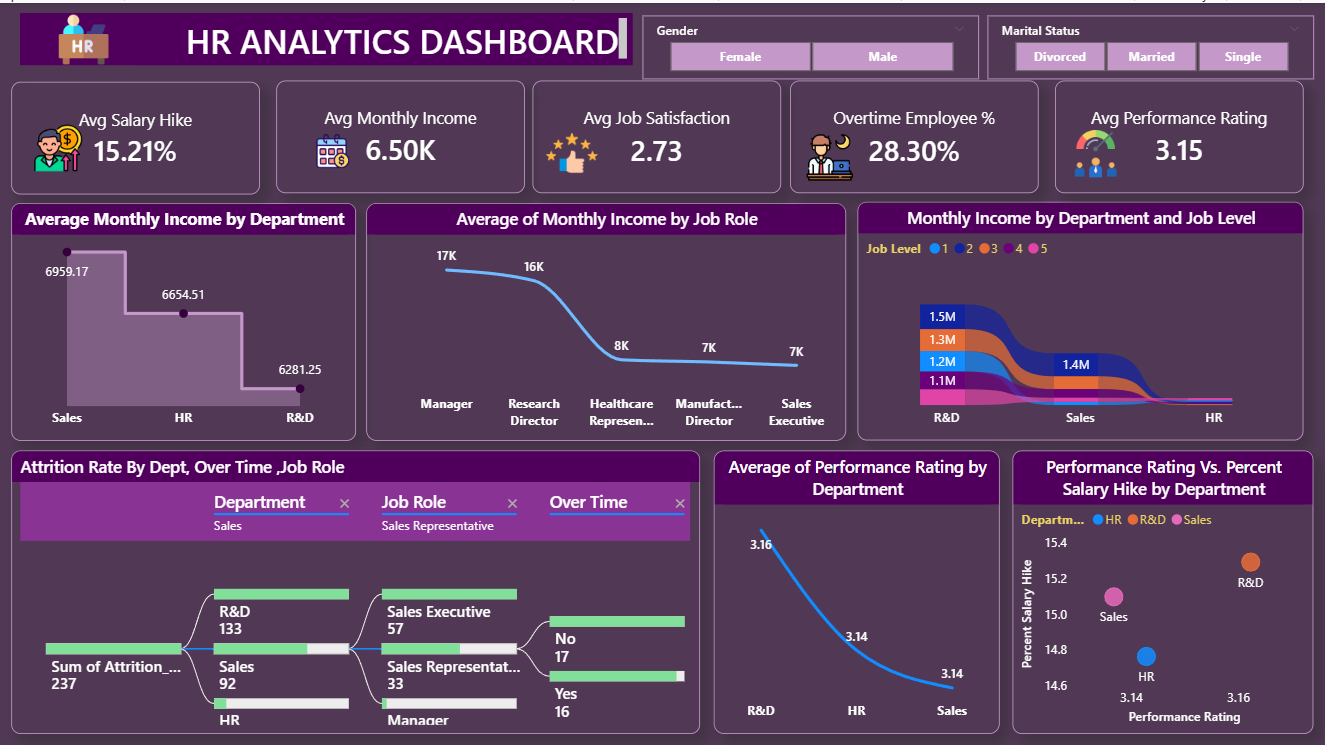

What the dashboard file says about the page in this screenshot:
{"tool":"powerbi","page":{"name":"Employee Performance & Compensation","canvas":[1280,720],"ordinal":1},"visuals":[{"type":"funnel","title":"Average  Monthly Income by Department","fields":{"Category":["HR data.Department"],"Y":["Avg(HR data.Monthly Income)"]},"box":[10.9,193,333,229.2],"z":0},{"type":"lineChart","fields":{"Category":["HR data.Job Role"],"Y":["Avg(HR data.Monthly Income)"]},"box":[353.5,193,464.5,229.2],"z":1000},{"type":"cardVisual","fields":{"Data":["HR data.Avg Salary Hike"]},"box":[10.9,80.8,240.1,100.1],"z":2000},{"type":"ribbonChart","title":"Avg Monthly Income by Department and Job Level","fields":{"Y":["Avg(HR data.Monthly Income)"],"Category":["HR data.Job Level"],"Series":["HR data.Department"]},"box":[827.6,191.8,430.7,230.4],"z":3000},{"type":"image","box":[31.4,117,49.5,45.8],"z":4000},{"type":"cardVisual","fields":{"Data":["Avg(HR data.Monthly Income)"]},"box":[260.6,80.8,240.1,100.1],"z":5000},{"type":"cardVisual","fields":{"Data":["HR data.Avg Job Satisfaction"]},"box":[510.3,82,240.1,100.1],"z":6000},{"type":"cardVisual","fields":{"Data":["HR data.Overtime Employee %"]},"box":[762.5,82,240.1,100.1],"z":7000},{"type":"image","box":[774.5,126.7,53.1,44.6],"z":8000},{"type":"image","box":[524.8,117,54.3,54.3],"z":9000},{"type":"image","box":[298,114.6,45.8,56.7],"z":10000},{"type":"cardVisual","fields":{"Data":["Avg(HR data.Performance Rating)"]},"box":[1018.2,83.2,240.1,100.1],"z":11000},{"type":"image","box":[1032.7,117,49.5,56.7],"z":12000},{"type":"clusteredBarChart","title":"Performance Rating Vs. Percent Salary Hike by Department","fields":{"Y":["Avg(HR data.Performance Rating)","HR data.Avg Salary Hike"],"Category":["HR data.Department"]},"box":[970,431.9,298,273.9],"z":13000},{"type":"decompositionTreeVisual","title":"WorkForce Distribution by Department, Role and Overtime","fields":{"ExplainBy":["HR data.Department","HR data.Job Role","HR data.Over Time"],"Analyze":["HR data.Active_Employees"]},"box":[7.2,431.9,571.9,273.9],"z":14000},{"type":"areaChart","title":"Avg Salary Hike by age group","fields":{"Y":["HR data.Avg Salary Hike"],"Category":["HR data.CF_age band"]},"box":[586.3,430.7,375.2,275.1],"z":15000},{"type":"textbox","box":[9.7,0,594.8,67.6],"z":16000},{"type":"image","box":[31.4,10.9,67.6,45.8],"z":17000},{"type":"slicer","fields":{"Values":["HR data.Marital Status"]},"box":[957.9,7.2,300.4,67.6],"z":18000},{"type":"slicer","fields":{"Values":["HR data.Gender"]},"box":[639.4,7.2,300.4,67.6],"z":19000}]}

Visuals, with their boxes in screenshot pixels (x1, y1, x2, y2), scaled from the page's 1280x720 canvas onto the 1325x745 screenshot:
"Average  Monthly Income by Department" funnel: <box>11,200,356,437</box>
lineChart - HR data.Job Role x Avg(HR data.Monthly Income): <box>366,200,847,437</box>
cardVisual - HR data.Avg Salary Hike: <box>11,84,260,187</box>
"Avg Monthly Income by Department and Job Level" ribbonChart: <box>857,198,1303,437</box>
image: <box>33,121,84,168</box>
cardVisual - Avg(HR data.Monthly Income): <box>270,84,518,187</box>
cardVisual - HR data.Avg Job Satisfaction: <box>528,85,777,188</box>
cardVisual - HR data.Overtime Employee %: <box>789,85,1038,188</box>
image: <box>802,131,857,177</box>
image: <box>543,121,599,177</box>
image: <box>308,119,356,177</box>
cardVisual - Avg(HR data.Performance Rating): <box>1054,86,1303,190</box>
image: <box>1069,121,1120,180</box>
"Performance Rating Vs. Percent Salary Hike by Department" clusteredBarChart: <box>1004,447,1313,730</box>
"WorkForce Distribution by Department, Role and Overtime" decompositionTreeVisual: <box>7,447,599,730</box>
"Avg Salary Hike by age group" areaChart: <box>607,446,995,730</box>
textbox: <box>10,0,626,70</box>
image: <box>33,11,102,59</box>
slicer - HR data.Marital Status: <box>992,7,1303,77</box>
slicer - HR data.Gender: <box>662,7,973,77</box>
